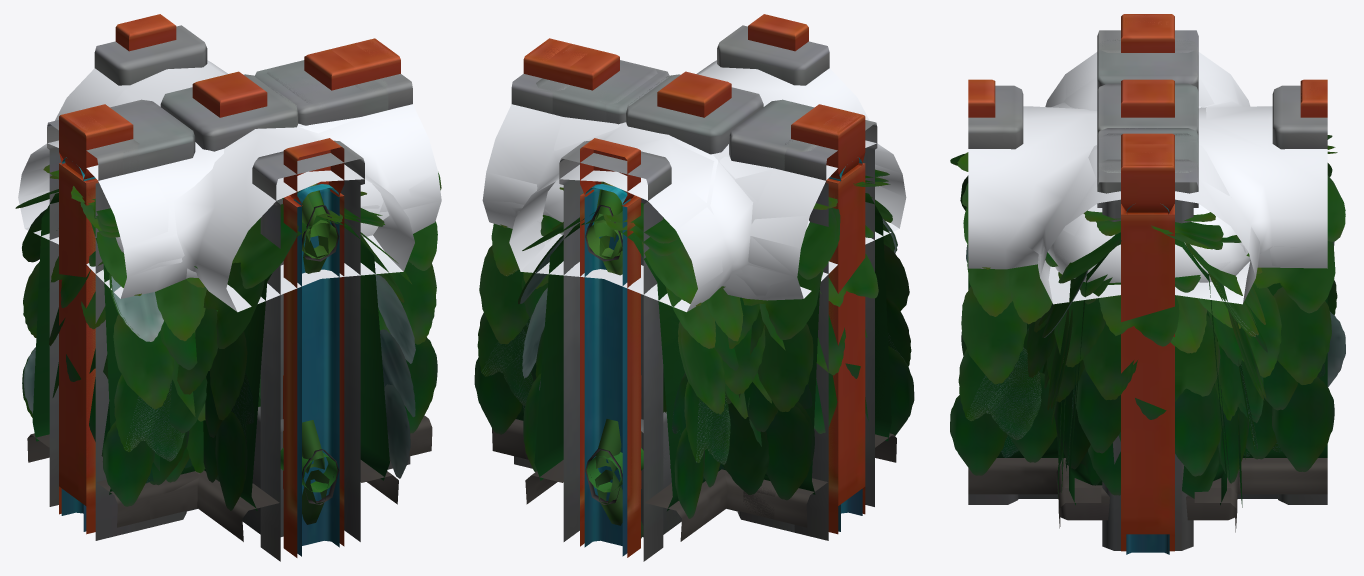
The model's file is fences-3.glb.
The picture shows the model from 3 angles, left to right: view 1: azimuth 30°, elevation 25°; view 2: azimuth 150°, elevation 25°; view 3: azimuth 270°, elevation 25°; orthographic projection.
Parts seen in each view (by area): view 1: mFenceIkegaki (×10), mFenceIronAndStone (×6), mWinterSnow (×5), mFenceChinese (×5), mFenceSteel, mFenceCrossedBamboo (×2); view 2: mFenceIkegaki (×8), mFenceIronAndStone (×6), mWinterSnow (×5), mFenceChinese (×6), mFenceSteel (×2), mFenceCrossedBamboo (×2); view 3: mFenceIkegaki (×8), mWinterSnow (×6), mFenceChinese (×4), mFenceIronAndStone (×6), mFenceSteel.
Boxes of the visible parts, <box> form: mFenceIkegaki (×10): <box>15,164,441,541</box>; mFenceIronAndStone (×6): <box>47,25,412,561</box>; mWinterSnow (×5): <box>18,60,441,312</box>; mFenceChinese (×5): <box>59,14,400,557</box>; mFenceSteel: <box>76,169,339,556</box>; mFenceCrossedBamboo (×2): <box>280,183,339,524</box>; mFenceIkegaki (×8): <box>474,169,914,541</box>; mFenceIronAndStone (×6): <box>511,25,877,561</box>; mWinterSnow (×5): <box>482,60,906,311</box>; mFenceChinese (×6): <box>523,14,865,557</box>; mFenceSteel (×2): <box>584,184,630,556</box>; mFenceCrossedBamboo (×2): <box>585,181,643,538</box>; mFenceIkegaki (×8): <box>950,135,1345,532</box>; mWinterSnow (×6): <box>968,52,1327,304</box>; mFenceChinese (×4): <box>968,14,1327,551</box>; mFenceIronAndStone (×6): <box>968,30,1327,550</box>; mFenceSteel: <box>1126,204,1169,554</box>.
Size of the model in its own units: 11.27 by 12.26 by 11.23.
37 materials, 36 textured.
